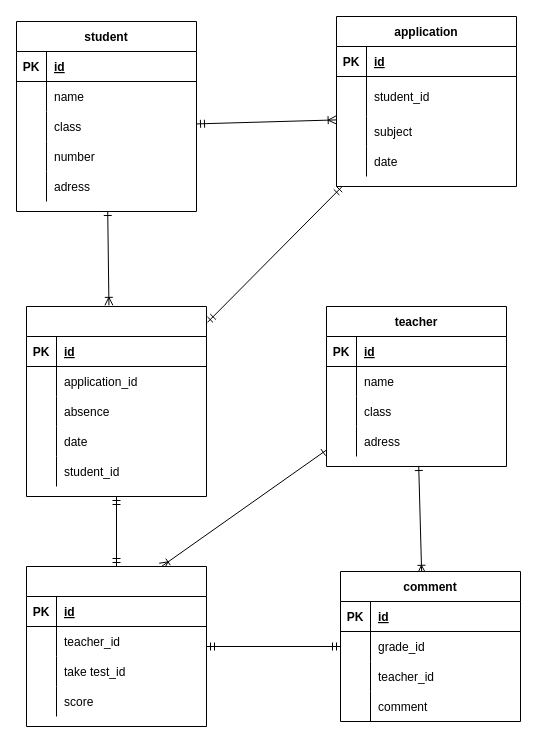
This 537x743 diagram has some shape labels left out. Here are the shapes that lost their labels. From the top down, the box of each, then its label:
(26, 306, 206, 496): take test
(26, 566, 206, 726): grade
